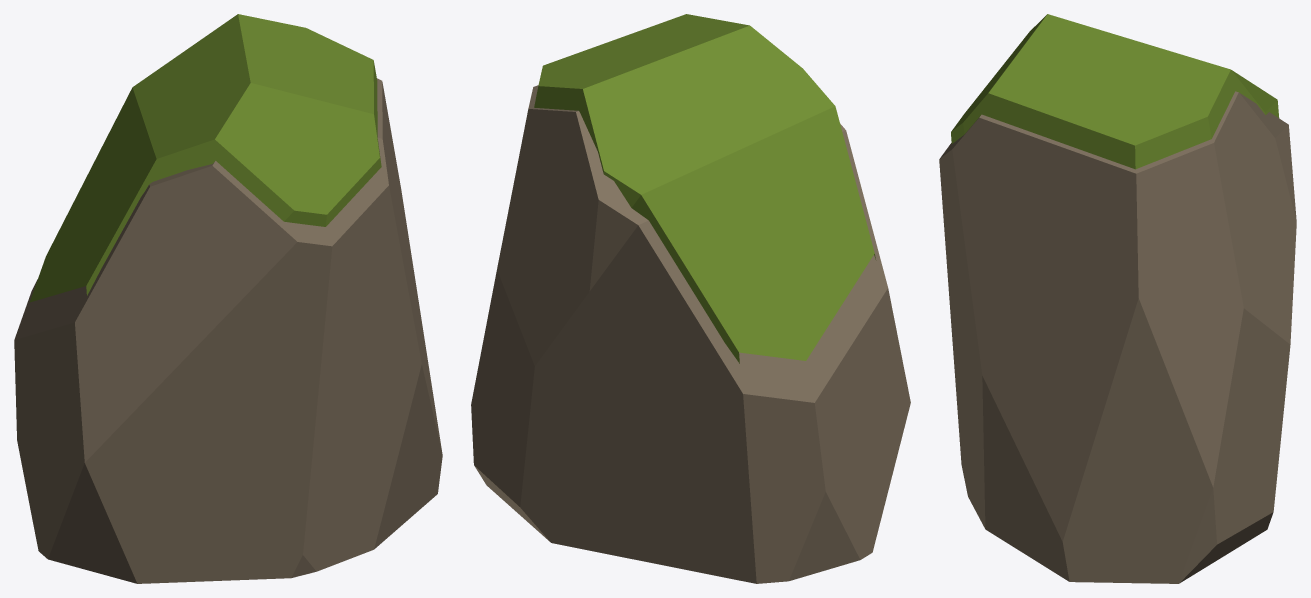
The model's file is Stone_5_moss_brown_mat.fbx.
3 renders of one model, left to right at view 1: azimuth 30°, elevation 25°; view 2: azimuth 150°, elevation 25°; view 3: azimuth 270°, elevation 25°, orthographic. The views are drawn at different scales.
Parts seen in each view (by area): view 1: Stone_5_moss_brown_mat; view 2: Stone_5_moss_brown_mat; view 3: Stone_5_moss_brown_mat.
Boxes of the visible parts, x1,y1,x2,y2 form: Stone_5_moss_brown_mat: (14,14,442,583); Stone_5_moss_brown_mat: (471,14,910,583); Stone_5_moss_brown_mat: (939,14,1296,583).
Bounding box in the file's own units: 83.72 × 102 × 70.29.
